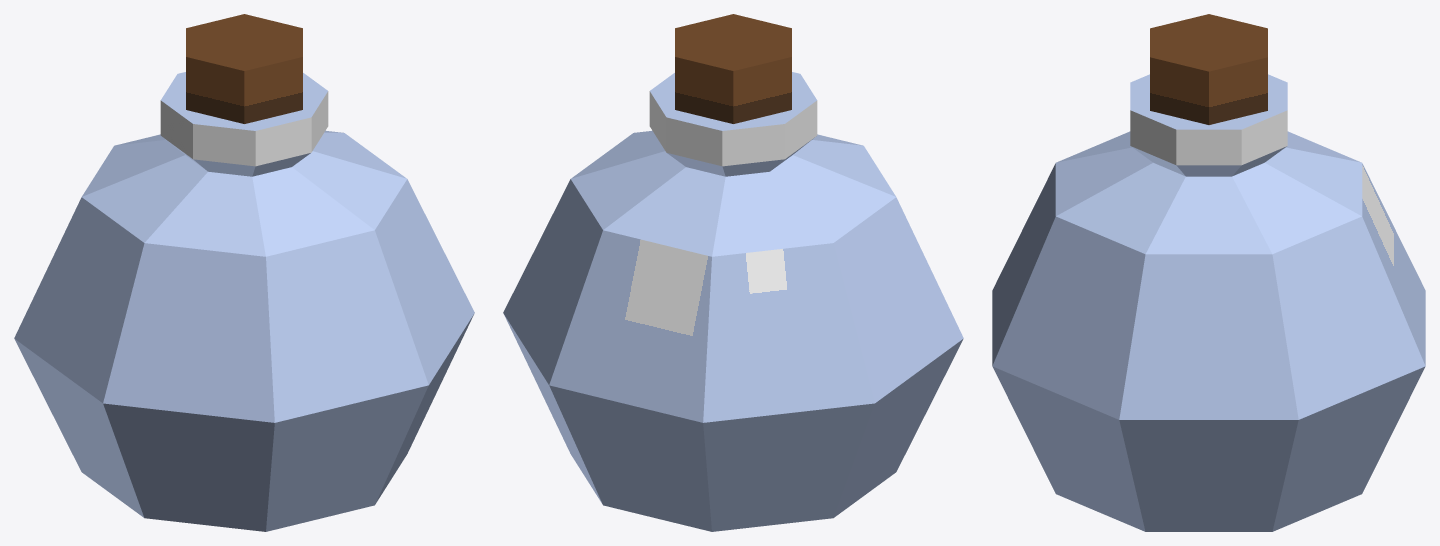
File: potion.obj
3 views of the same model, side by side, from view 1: azimuth 30°, elevation 25°; view 2: azimuth 150°, elevation 25°; view 3: azimuth 270°, elevation 25° (orthographic).
Visible parts, largest first — view 1: sphere, cylinder; view 2: sphere, cylinder; view 3: sphere, cylinder.
Boxes of the visible parts, x1=… form: sphere: x1=14, y1=130, x2=474, y2=531; cylinder: x1=160, y1=14, x2=328, y2=176; sphere: x1=503, y1=130, x2=963, y2=531; cylinder: x1=649, y1=14, x2=817, y2=176; sphere: x1=992, y1=131, x2=1425, y2=531; cylinder: x1=1130, y1=14, x2=1287, y2=176.
Size of the model in its own units: 0.6875 by 0.8438 by 0.6875.
Materials: 3 (3 with a texture image).
